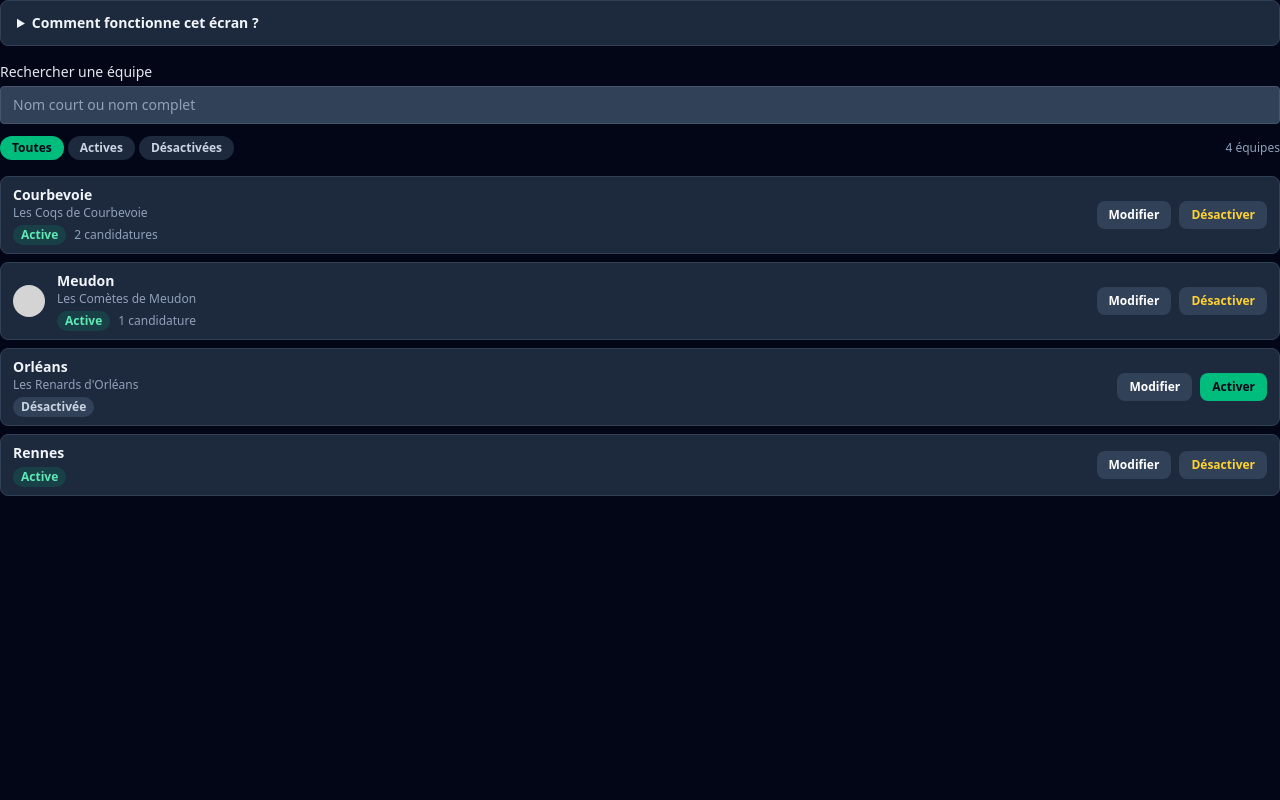
GestionEquipesReferentiel — activation et désactivation (CA9) › désactive après confirmation, referme le dialogue et recharge la liste
Click the button with aria-label "Désactiver Rennes": (1223, 465) [1179,451,1267,479]
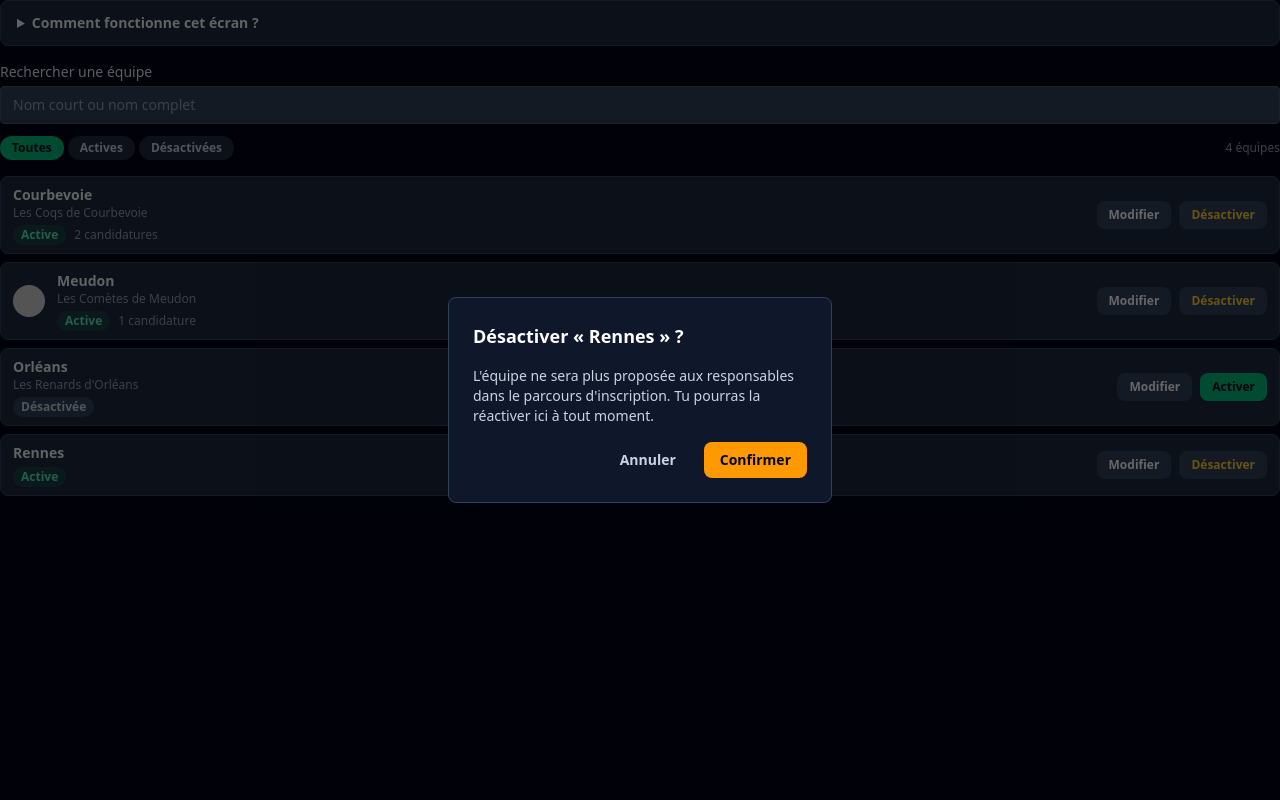
Click the button "Confirmer": (755, 460) [704,442,807,478]
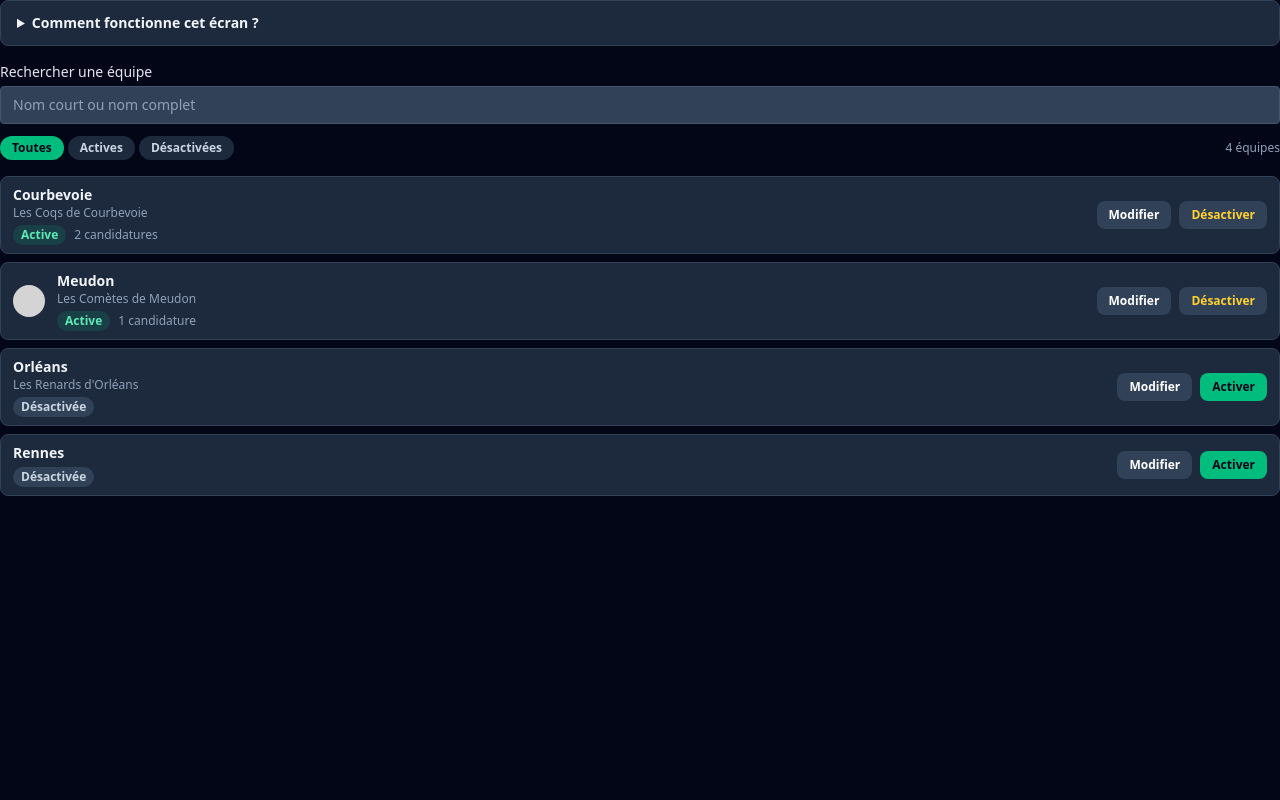
Expected: the button with aria-label "Activer Rennes" is shown, [1200,451,1267,479]
Expected: the dialog is gone
Expected: the text "Désactivée" below "Rennes" is shown, [21,468,86,485]
